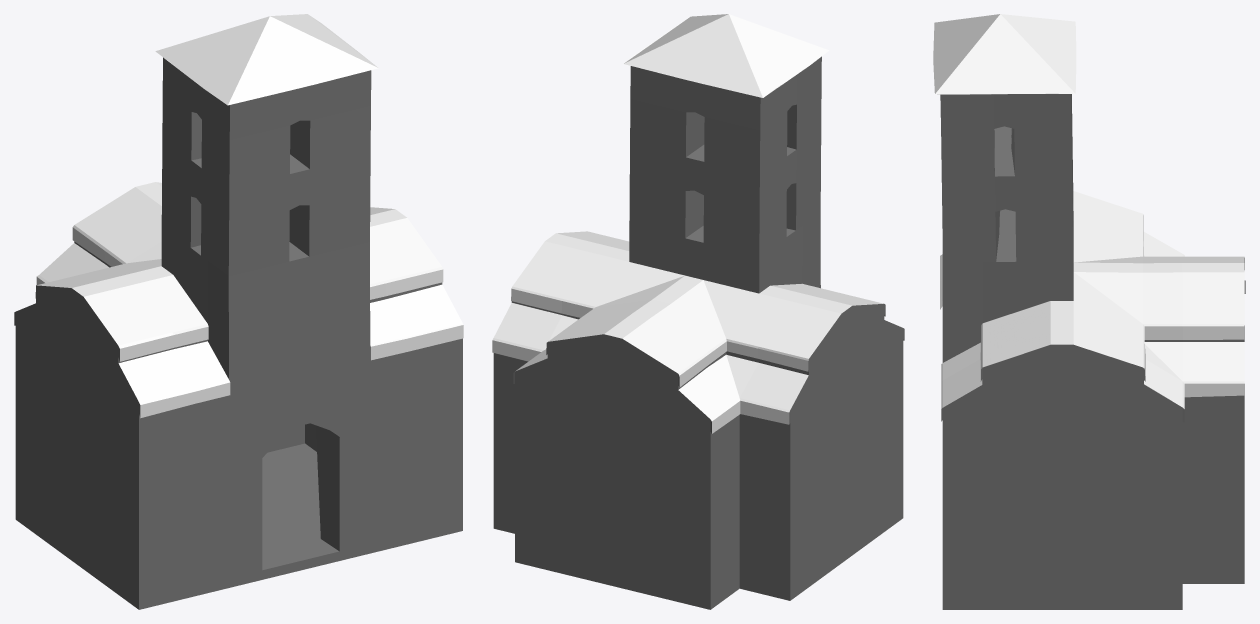
The model's file is Monastery Center.fbx.
3 views of the same model, side by side, from view 1: azimuth 30°, elevation 25°; view 2: azimuth 150°, elevation 25°; view 3: azimuth 270°, elevation 25° (orthographic). The views are drawn at different scales.
Visible parts, largest first — view 1: Monastery Centre; view 2: Monastery Centre; view 3: Monastery Centre.
Part boxes in pixels (x1,y1,x2,y2): Monastery Centre: (14,14,463,609); Monastery Centre: (492,14,904,609); Monastery Centre: (933,14,1245,609).
Size of the model in its own units: 100 by 157 by 85.81.
